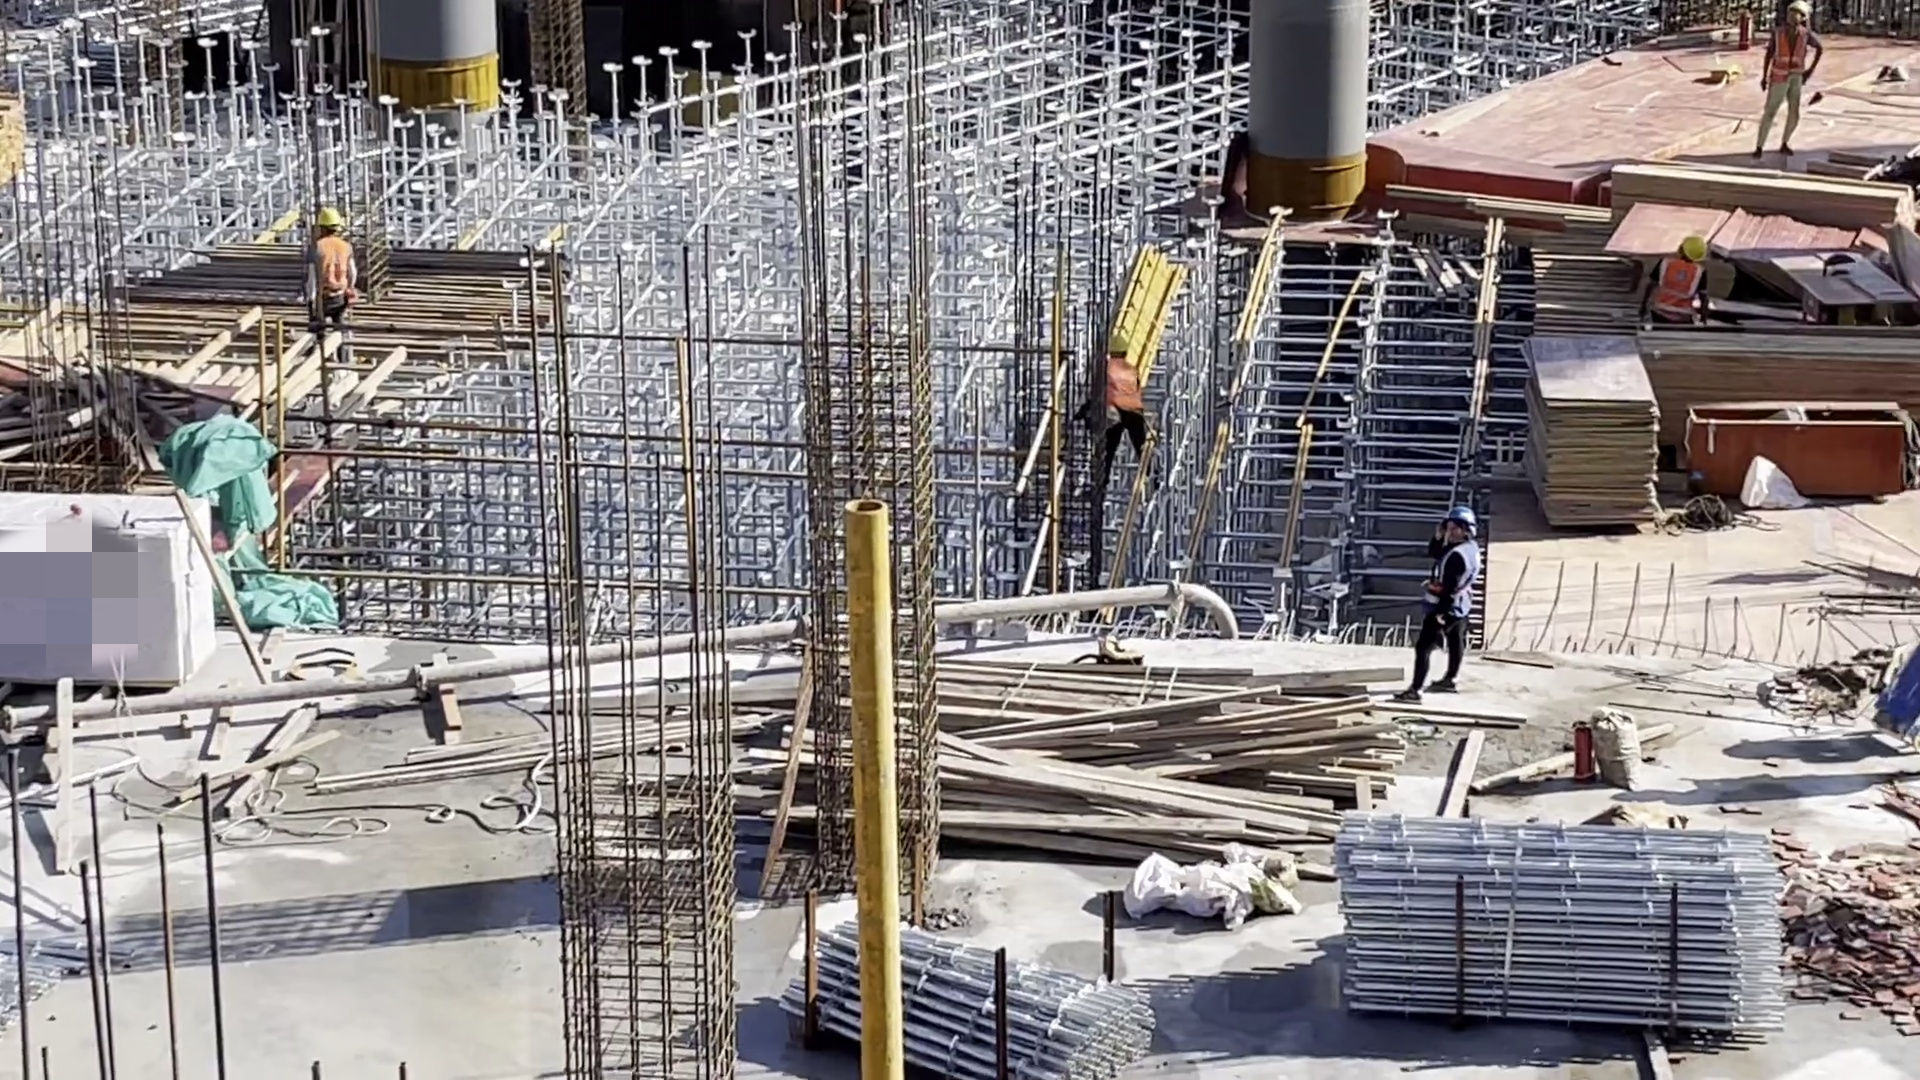helmet: (1439, 508, 1476, 538), (1678, 238, 1711, 259), (316, 206, 343, 232), (1788, 4, 1807, 27), (1105, 336, 1128, 354)
person: (1403, 501, 1478, 716), (1759, 8, 1826, 163), (1096, 335, 1156, 485), (307, 206, 369, 330), (1641, 237, 1711, 320)
vest: (1425, 540, 1480, 625), (309, 238, 355, 298), (1770, 24, 1809, 91), (1098, 364, 1141, 417), (1657, 257, 1696, 305)
